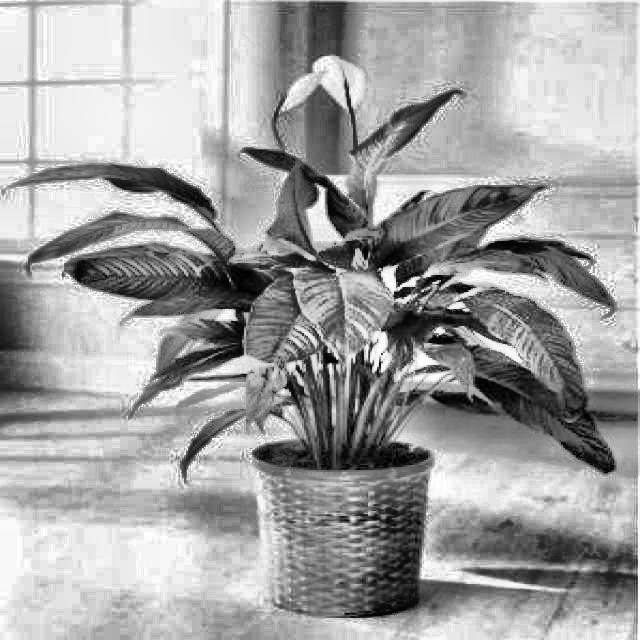plants: (25, 61, 633, 607)
